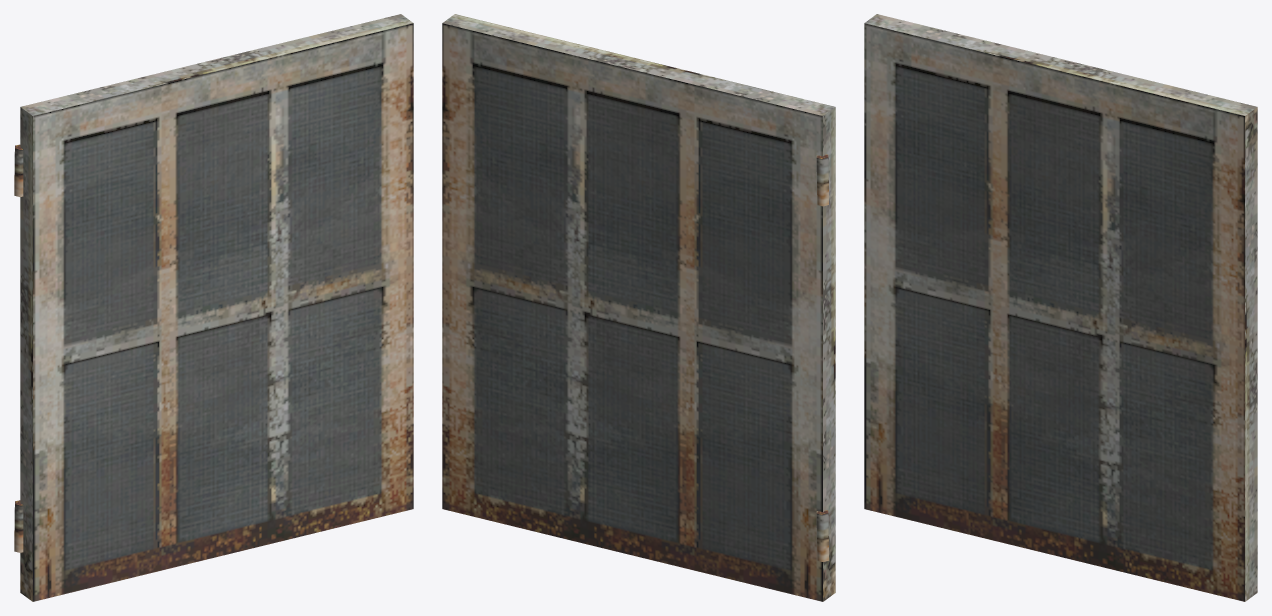
Rendered from factory_facade_01_open_window_01.DAE.
3 renders of one model, left to right at view 1: azimuth 30°, elevation 25°; view 2: azimuth 150°, elevation 25°; view 3: azimuth 330°, elevation 25°, orthographic.
Visible parts, largest first — view 1: Box083; view 2: Box083; view 3: Box083.
Boxes of the visible parts, x1,y1,x2,y2 form: Box083: (14,14,413,601); Box083: (442,14,835,601); Box083: (864,14,1257,601).
Size of the model in its own units: 1.48 by 1.78 by 0.1033.
